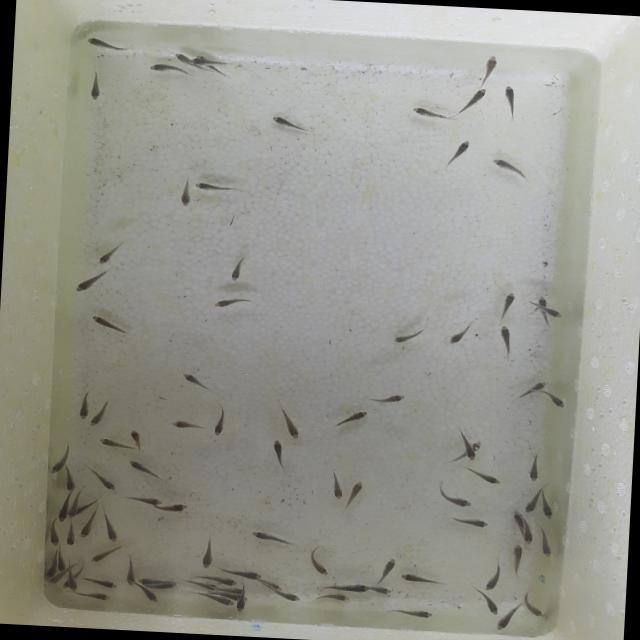fingerling: (492, 156, 530, 184), (84, 314, 134, 335), (91, 240, 128, 268), (458, 467, 506, 488), (86, 467, 124, 493), (172, 178, 200, 210), (126, 460, 166, 482), (203, 410, 233, 439), (73, 270, 106, 296), (476, 54, 504, 84), (100, 507, 122, 545), (280, 408, 304, 442), (268, 114, 308, 134), (408, 104, 452, 122), (268, 439, 291, 473), (194, 180, 242, 196), (449, 136, 472, 169), (447, 320, 474, 348), (439, 490, 475, 511), (344, 478, 366, 511), (323, 472, 348, 501), (370, 391, 412, 408), (142, 61, 189, 76), (248, 528, 292, 544), (462, 86, 487, 114), (537, 492, 560, 522), (517, 376, 548, 398), (226, 256, 250, 284), (84, 36, 125, 52), (87, 402, 112, 428), (344, 407, 376, 427), (447, 514, 492, 528), (179, 370, 212, 389), (84, 74, 106, 102), (493, 608, 515, 636), (499, 82, 518, 114), (46, 448, 66, 478), (476, 592, 501, 616), (120, 493, 166, 506), (498, 290, 520, 317), (388, 330, 422, 347), (496, 323, 514, 355), (212, 296, 252, 310), (90, 546, 121, 564), (94, 436, 128, 452), (157, 498, 194, 512), (401, 572, 437, 586), (523, 599, 548, 619), (76, 390, 92, 421), (169, 417, 202, 432), (396, 608, 439, 619), (78, 588, 111, 602), (200, 594, 233, 608), (138, 586, 165, 603), (483, 568, 502, 592), (529, 448, 542, 483), (325, 582, 370, 592), (62, 466, 79, 492), (310, 555, 330, 577), (378, 557, 398, 579), (226, 568, 262, 580), (313, 592, 352, 603), (522, 514, 536, 544), (537, 528, 551, 558), (124, 555, 138, 585), (524, 488, 540, 514), (89, 577, 121, 590), (202, 537, 214, 570), (69, 488, 83, 516), (48, 514, 61, 544), (83, 508, 95, 540), (128, 428, 146, 449), (512, 544, 526, 571), (460, 442, 476, 464), (58, 494, 70, 523), (541, 307, 566, 320), (368, 586, 397, 597), (191, 58, 226, 67), (259, 580, 285, 592), (46, 554, 58, 578), (67, 568, 79, 592), (278, 592, 302, 604), (548, 396, 568, 410), (68, 521, 78, 548), (210, 578, 240, 587), (510, 509, 524, 528), (235, 591, 247, 613), (50, 568, 66, 584), (56, 549, 68, 570), (154, 580, 178, 590), (174, 53, 194, 64), (138, 576, 164, 584), (536, 296, 548, 308)
